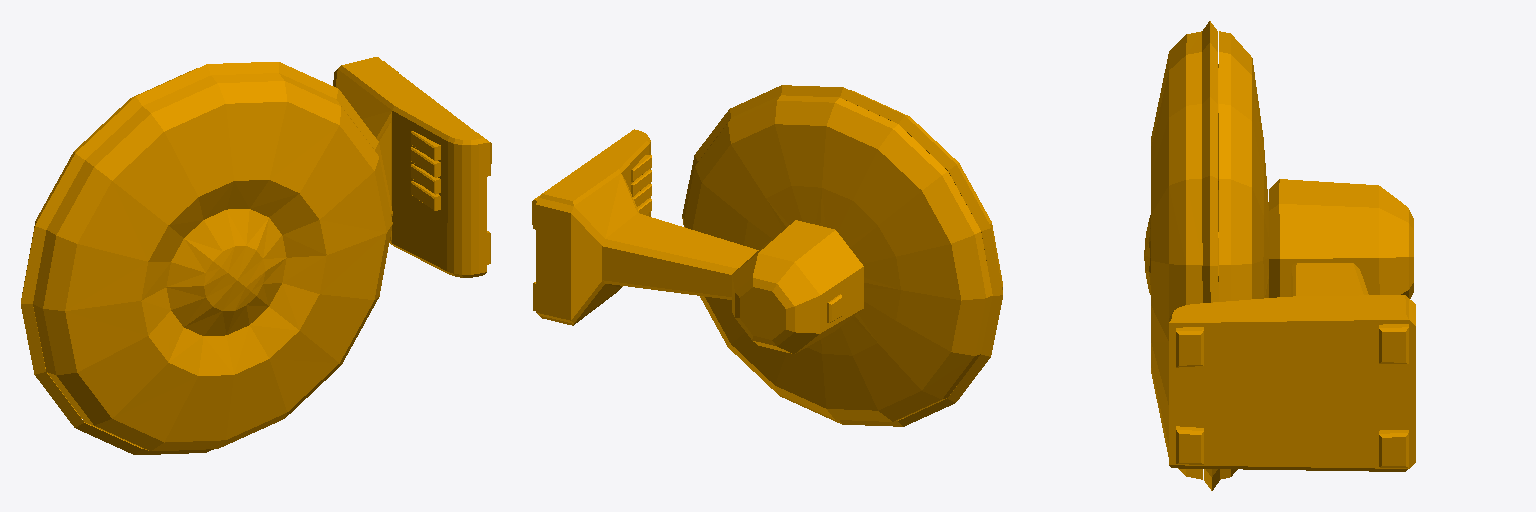
robot.urdf — none:
<robot name="none">
       <link name="none">
           <visual>
               <origin  rpy="-1.57 0  1.57" xyz="0 0 0" />
               <geometry>
                   <mesh filename="obj.obj"   scale="0.8 0.8 0.8"/>
               </geometry>
           </visual>
          <collision>
<origin rpy="1.57 0 0" xyz="0 0 0.25" />
              <geometry>
                  <box size="0.676789 0.5 0.545188" />
              </geometry>
          </collision>

          <inertial>
            <mass value=".0" />
            <inertia ixx="0.05" ixy="0.0" ixz="0.0" iyy="0.05" iyz="0.0" izz="0.05"/>
          </inertial>
      </link>
  </robot>

--- Render facts (derived) ---
The picture shows the robot from 3 angles, left to right: view 1: azimuth 30°, elevation 25°; view 2: azimuth 150°, elevation 25°; view 3: azimuth 270°, elevation 25°; orthographic projection.
Robot: none — 1 links, 0 joints (none); root link none; default pose: all joints at 0.
Visible links, largest first — view 1: none; view 2: none; view 3: none.
Boxes of the visible links, x1,y1,x2,y2 form: none: (21,57,491,454); none: (532,85,1002,426); none: (1144,21,1415,490).
Bounding box of the posed robot: 0.9513 × 0.4472 × 0.7759 m (x, y, z).
Meshes: 1 distinct files referenced, 1 mesh visuals loaded (1 OBJ).